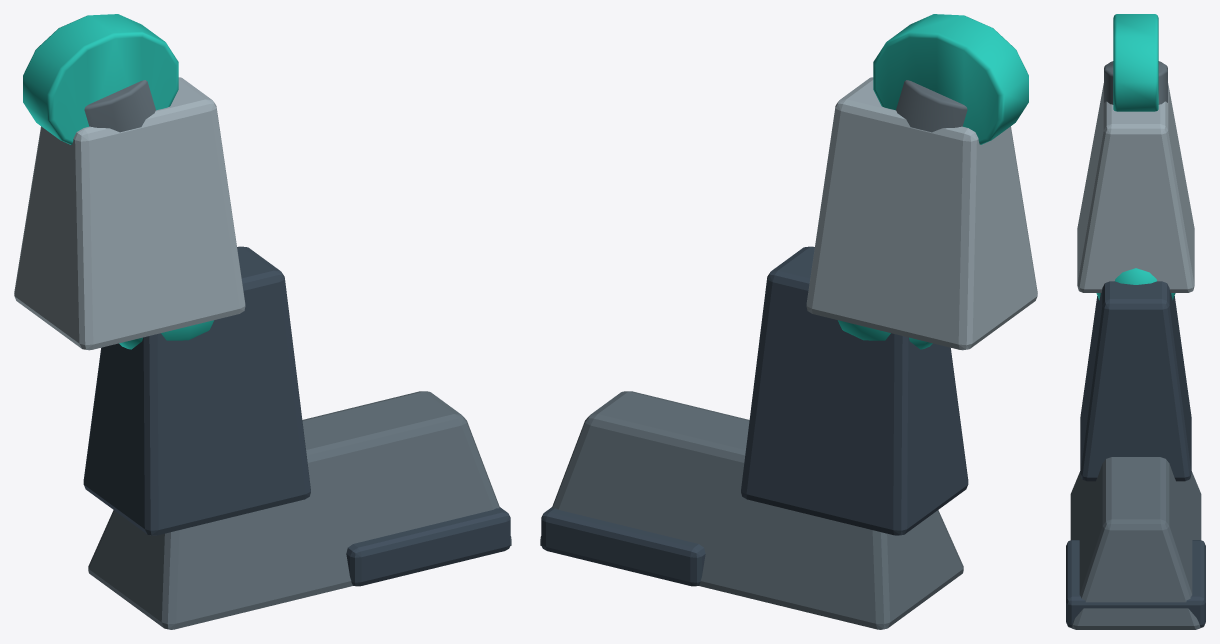
File: SM_Needle_LegL.fbx
The picture shows the model from 3 angles, left to right: view 1: azimuth 30°, elevation 25°; view 2: azimuth 150°, elevation 25°; view 3: azimuth 270°, elevation 25°; orthographic projection. The views are drawn at different scales.
Parts seen in each view (by area): view 1: SM_Needle_LegL; view 2: SM_Needle_LegL; view 3: SM_Needle_LegL.
Part boxes in pixels (bbox=[...]): SM_Needle_LegL: bbox=[14, 14, 511, 629]; SM_Needle_LegL: bbox=[540, 14, 1037, 629]; SM_Needle_LegL: bbox=[1066, 14, 1205, 629].
Bounding box in the file's own units: 16.41 × 5.68 × 20.88.
